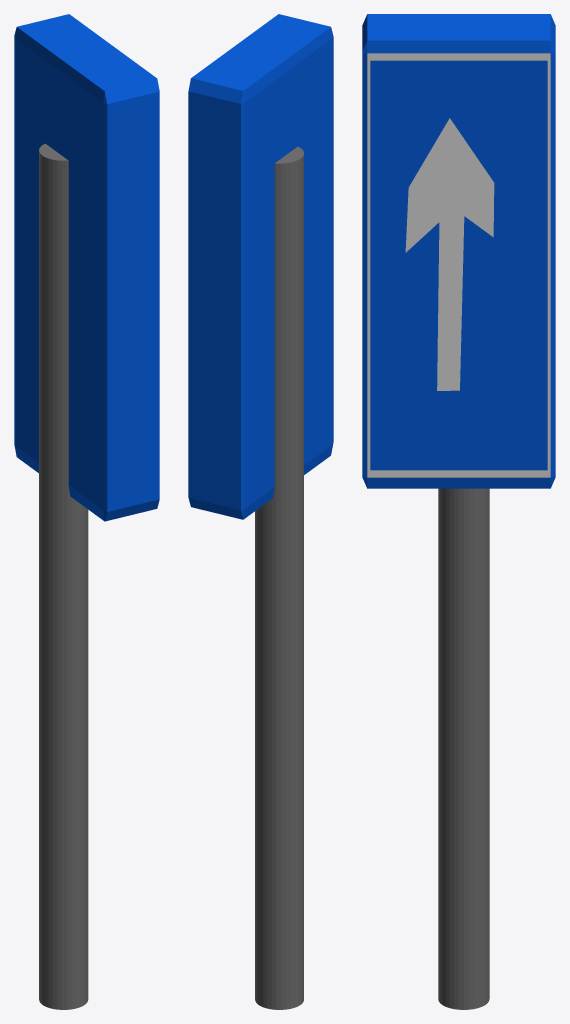
The model's file is one_way.fbx.
The picture shows the model from 3 angles, left to right: view 1: azimuth 30°, elevation 25°; view 2: azimuth 150°, elevation 25°; view 3: azimuth 270°, elevation 25°; orthographic projection. The views are drawn at different scales.
Visible parts, largest first — view 1: Cube, Cylinder; view 2: Cube, Cylinder; view 3: Cube, Cylinder.
Boxes of the visible parts, box(x1,y1,x2,y2) form: Cube: box(14, 14, 159, 521); Cylinder: box(39, 143, 88, 1009); Cube: box(188, 14, 333, 519); Cylinder: box(255, 146, 303, 1009); Cube: box(362, 14, 555, 488); Cylinder: box(438, 488, 489, 1009).
Bounding box in the file's own units: 1.64 × 21.15 × 3.78.
